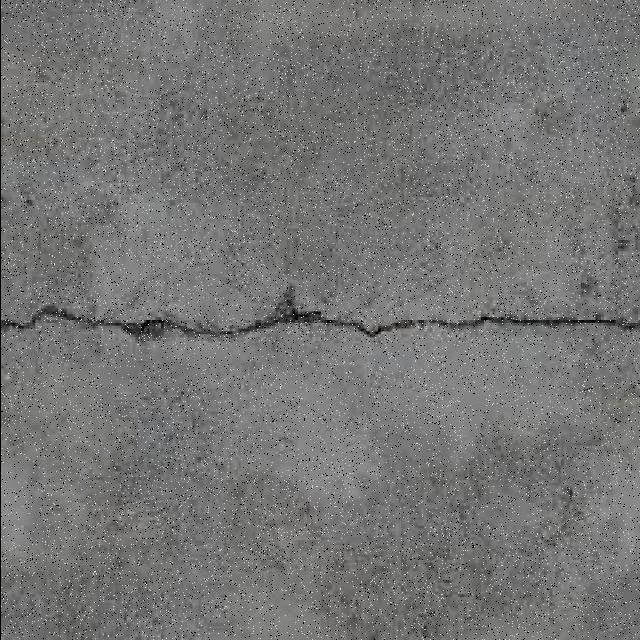crack: (4, 292, 639, 464), (2, 306, 638, 338), (15, 304, 185, 338)
